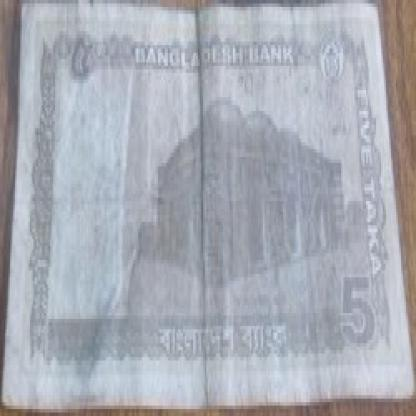Five Taka: (334, 260, 375, 357), (66, 28, 100, 97)
